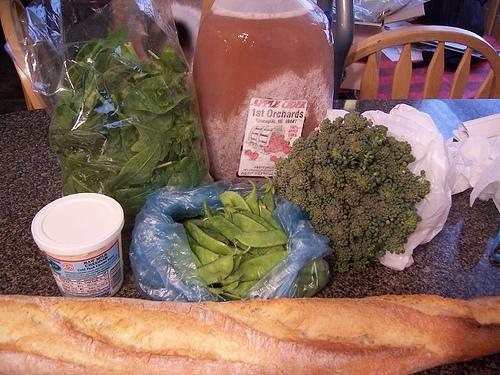broccoli: (273, 110, 431, 277)
